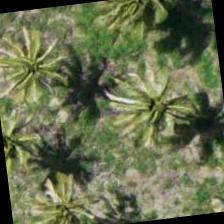Kelapa_Sawit: (106, 54, 206, 154), (0, 18, 79, 118), (83, 0, 180, 61), (11, 163, 109, 223), (0, 93, 57, 189)
